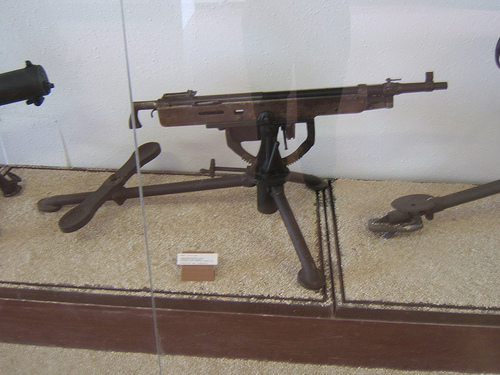rifle: (85, 68, 451, 226)
